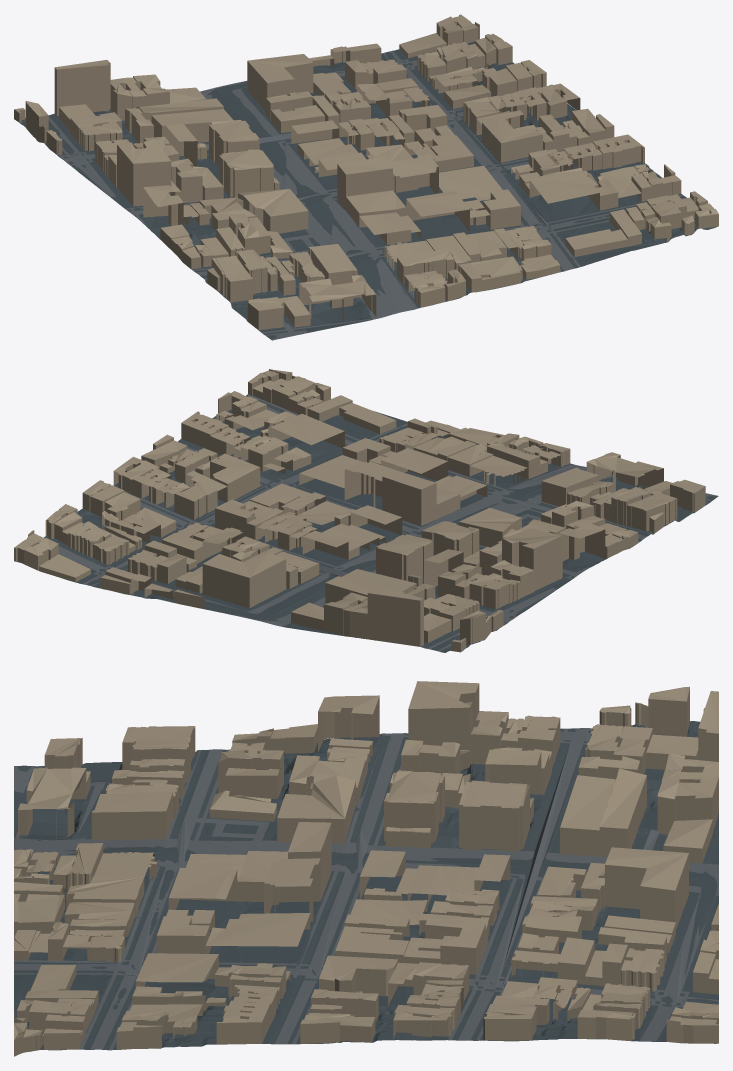
The model's file is epsg26910-1434-10893.lod0.glb.
The picture shows the model from 3 angles, top to bottom: view 1: azimuth 30°, elevation 25°; view 2: azimuth 150°, elevation 25°; view 3: azimuth 270°, elevation 25°; orthographic projection. The views are drawn at different scales.
Visible parts, largest first — view 1: epsg26910-1434-10893-lod0; view 2: epsg26910-1434-10893-lod0; view 3: epsg26910-1434-10893-lod0.
Part boxes in pixels (x1,y1,x2,y2): epsg26910-1434-10893-lod0: (14, 14, 718, 340); epsg26910-1434-10893-lod0: (14, 369, 718, 652); epsg26910-1434-10893-lod0: (14, 681, 718, 1056).
Size of the model in its own units: 384 by 64.67 by 384.
